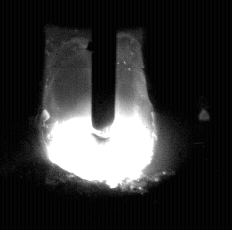arame: (93, 0, 116, 145)
poca: (45, 0, 155, 230)
